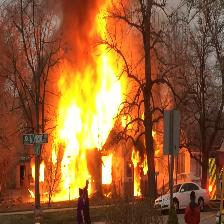fire: (48, 9, 122, 200)
